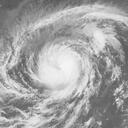cyclone: (31, 43, 87, 93)
